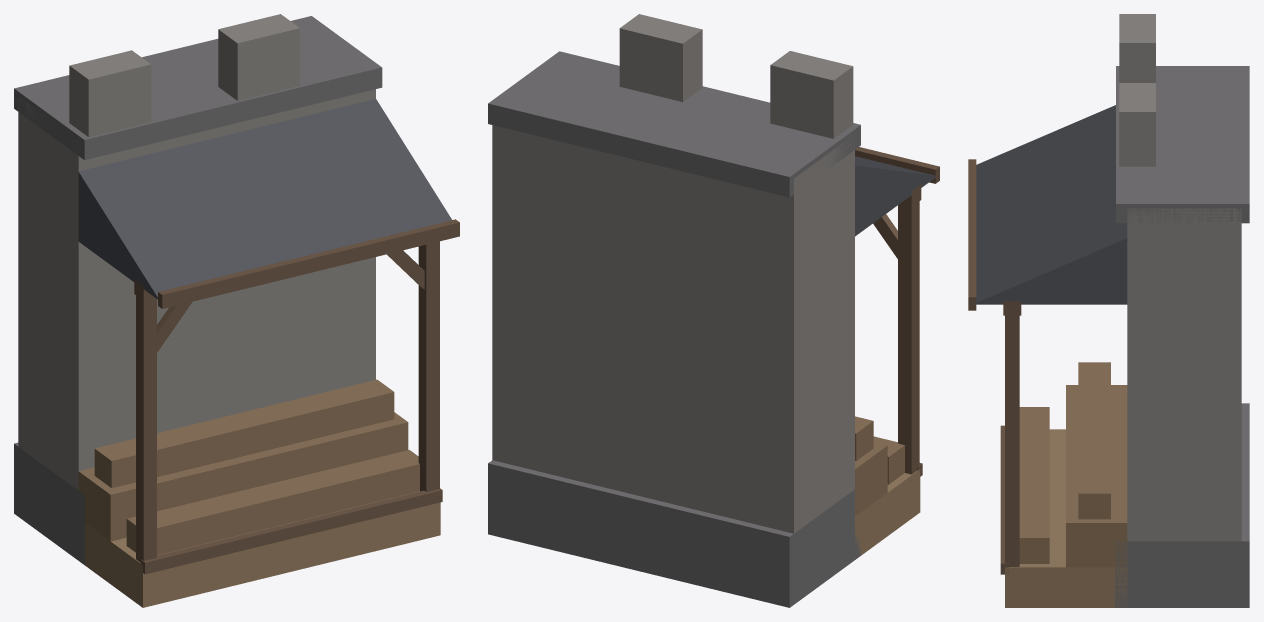
Rendered from stand_bay.glb.
The picture shows the model from 3 angles, left to right: view 1: azimuth 30°, elevation 25°; view 2: azimuth 150°, elevation 25°; view 3: azimuth 270°, elevation 25°; orthographic projection. The views are drawn at different scales.
Visible parts, largest first — view 1: Upper, Plinth; view 2: Upper, Plinth; view 3: Upper, Plinth.
Boxes of the visible parts, x1=… form: Upper: x1=14, y1=14, x2=459, y2=562; Plinth: x1=14, y1=442, x2=442, y2=607; Upper: x1=488, y1=14, x2=939, y2=533; Plinth: x1=488, y1=436, x2=922, y2=607; Upper: x1=968, y1=14, x2=1249, y2=567; Plinth: x1=1000, y1=403, x2=1249, y2=607.
Bounding box in the file's own units: 4 × 6.2 × 3.45.
